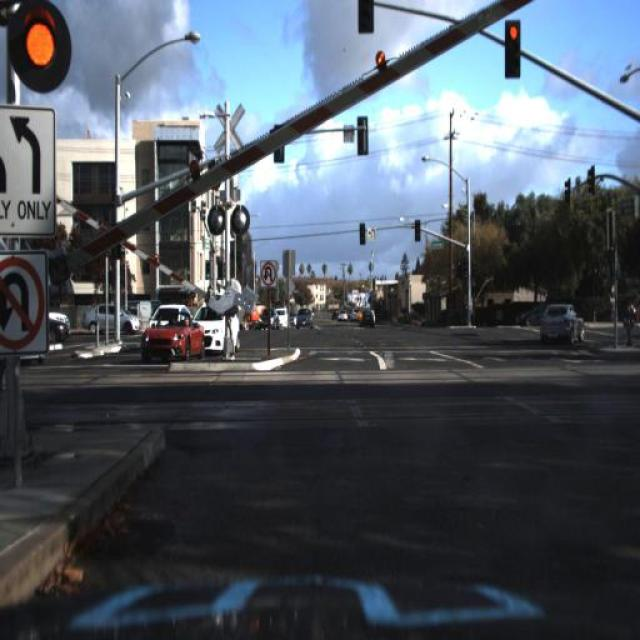car: (539, 289, 587, 362), (142, 306, 206, 360), (77, 302, 142, 342), (196, 309, 242, 356), (512, 302, 558, 329), (514, 292, 540, 332), (36, 316, 70, 346), (358, 298, 382, 332), (44, 319, 68, 352), (260, 306, 282, 332), (294, 304, 315, 330), (47, 310, 73, 330), (272, 305, 288, 336), (256, 305, 273, 327), (335, 296, 346, 329), (348, 298, 358, 324)
trafficLight: (620, 287, 636, 351)
trafficLight-Green: (503, 18, 521, 78), (356, 210, 372, 250), (412, 214, 422, 242)
trafficLight-GreenLeft: (459, 251, 470, 284)
trafficLight-RedLeft: (0, 0, 105, 100), (496, 12, 529, 87)
